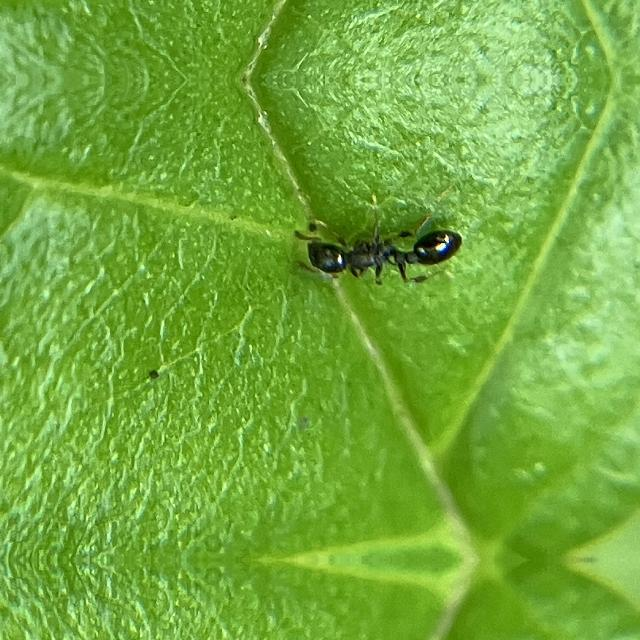Temnothorax: (286, 202, 487, 290)
